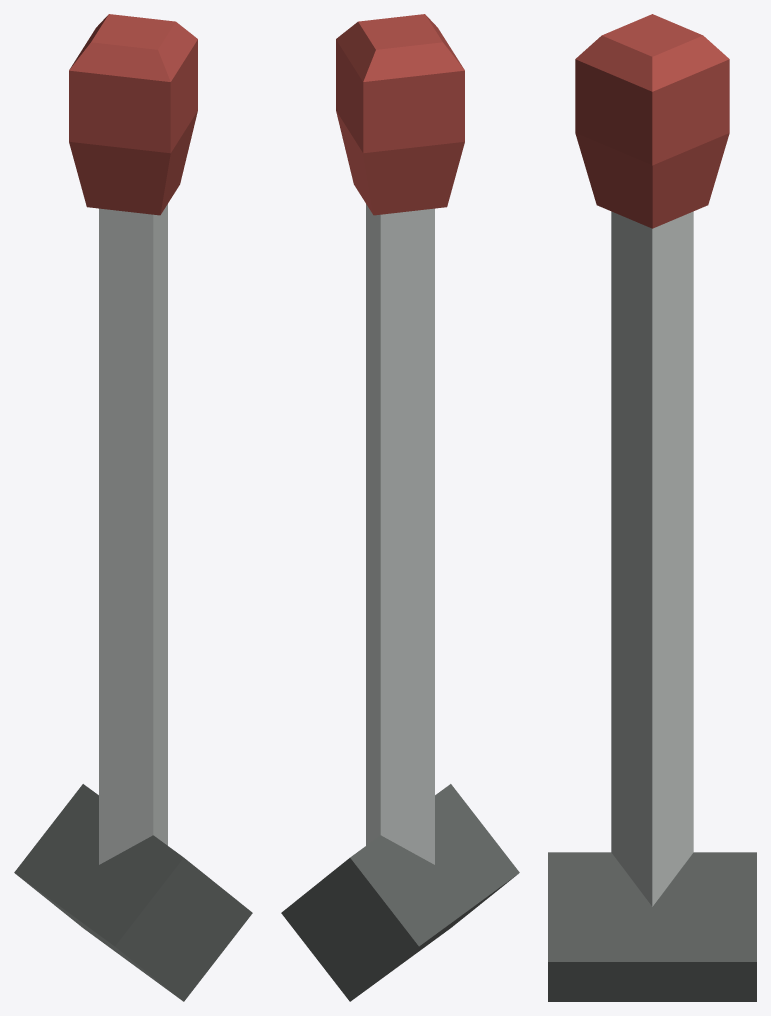
Rendered from lever_top.glb.
3 views of the same model, side by side, from view 1: azimuth 30°, elevation 25°; view 2: azimuth 150°, elevation 25°; view 3: azimuth 270°, elevation 25° (orthographic). The views are drawn at different scales.
Parts seen in each view (by area): view 1: Cube.001; view 2: Cube.001; view 3: Cube.001.
Boxes of the visible parts, x1,y1,x2,y2 form: Cube.001: (14,14,252,1001); Cube.001: (281,14,519,1001); Cube.001: (548,14,756,1001).
Bounding box in the file's own units: 0.1635 × 1.06 × 0.207.
Materials: 1 (1 with a texture image).
